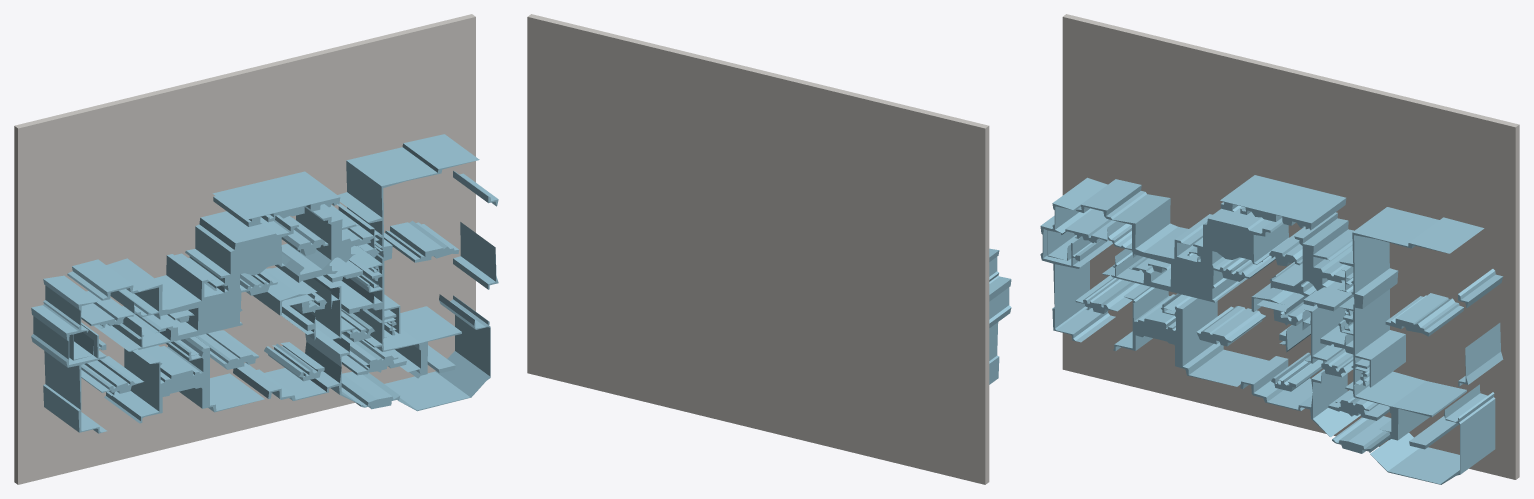
3 renders of one model, left to right at view 1: azimuth 30°, elevation 25°; view 2: azimuth 150°, elevation 25°; view 3: azimuth 330°, elevation 25°, orthographic.
Parts seen in each view (by area): view 1: world; view 2: world; view 3: world.
Boxes of the visible parts, box(x1,y1,x2,y2) form: world: box(14, 14, 498, 484); world: box(527, 14, 1011, 484); world: box(1040, 14, 1519, 484).
Size of the model in its own units: 10.23 by 7.61 by 1.52.
